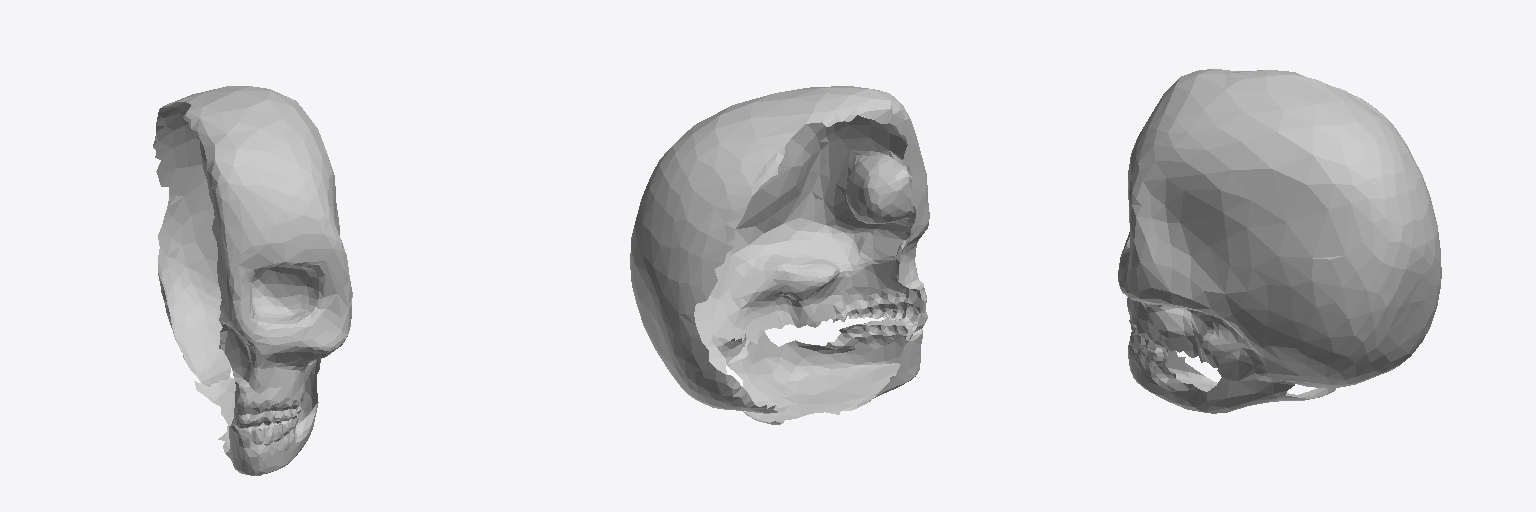
The model's file is skullright.obj.
3 renders of one model, left to right at view 1: azimuth 30°, elevation 25°; view 2: azimuth 150°, elevation 25°; view 3: azimuth 270°, elevation 25°, orthographic.
Parts seen in each view (by area): view 1: whiteskull.001_whiteskull.002; view 2: whiteskull.001_whiteskull.002; view 3: whiteskull.001_whiteskull.002.
Part boxes in pixels (x1,y1,x2,y2): whiteskull.001_whiteskull.002: (153,86,352,475); whiteskull.001_whiteskull.002: (630,86,929,424); whiteskull.001_whiteskull.002: (1118,69,1441,413).
Bounding box in the file's own units: 2.16 × 3.49 × 3.23.